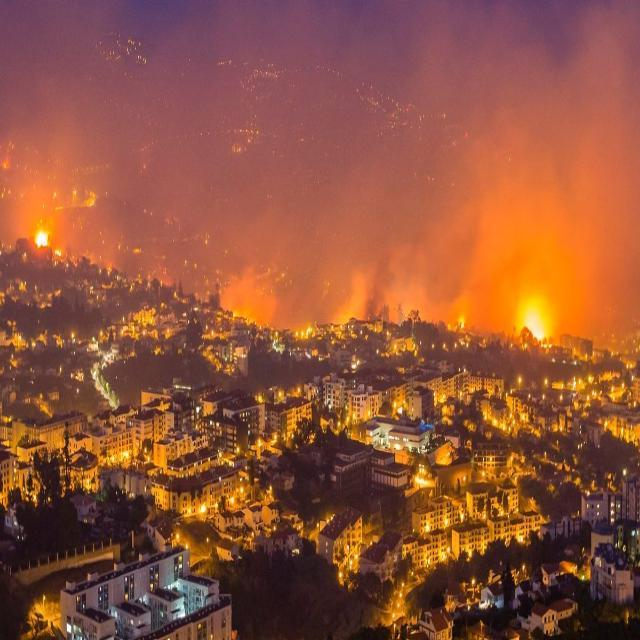Fire: (515, 285, 559, 368), (34, 230, 62, 260)
Smoke: (11, 0, 640, 335)
